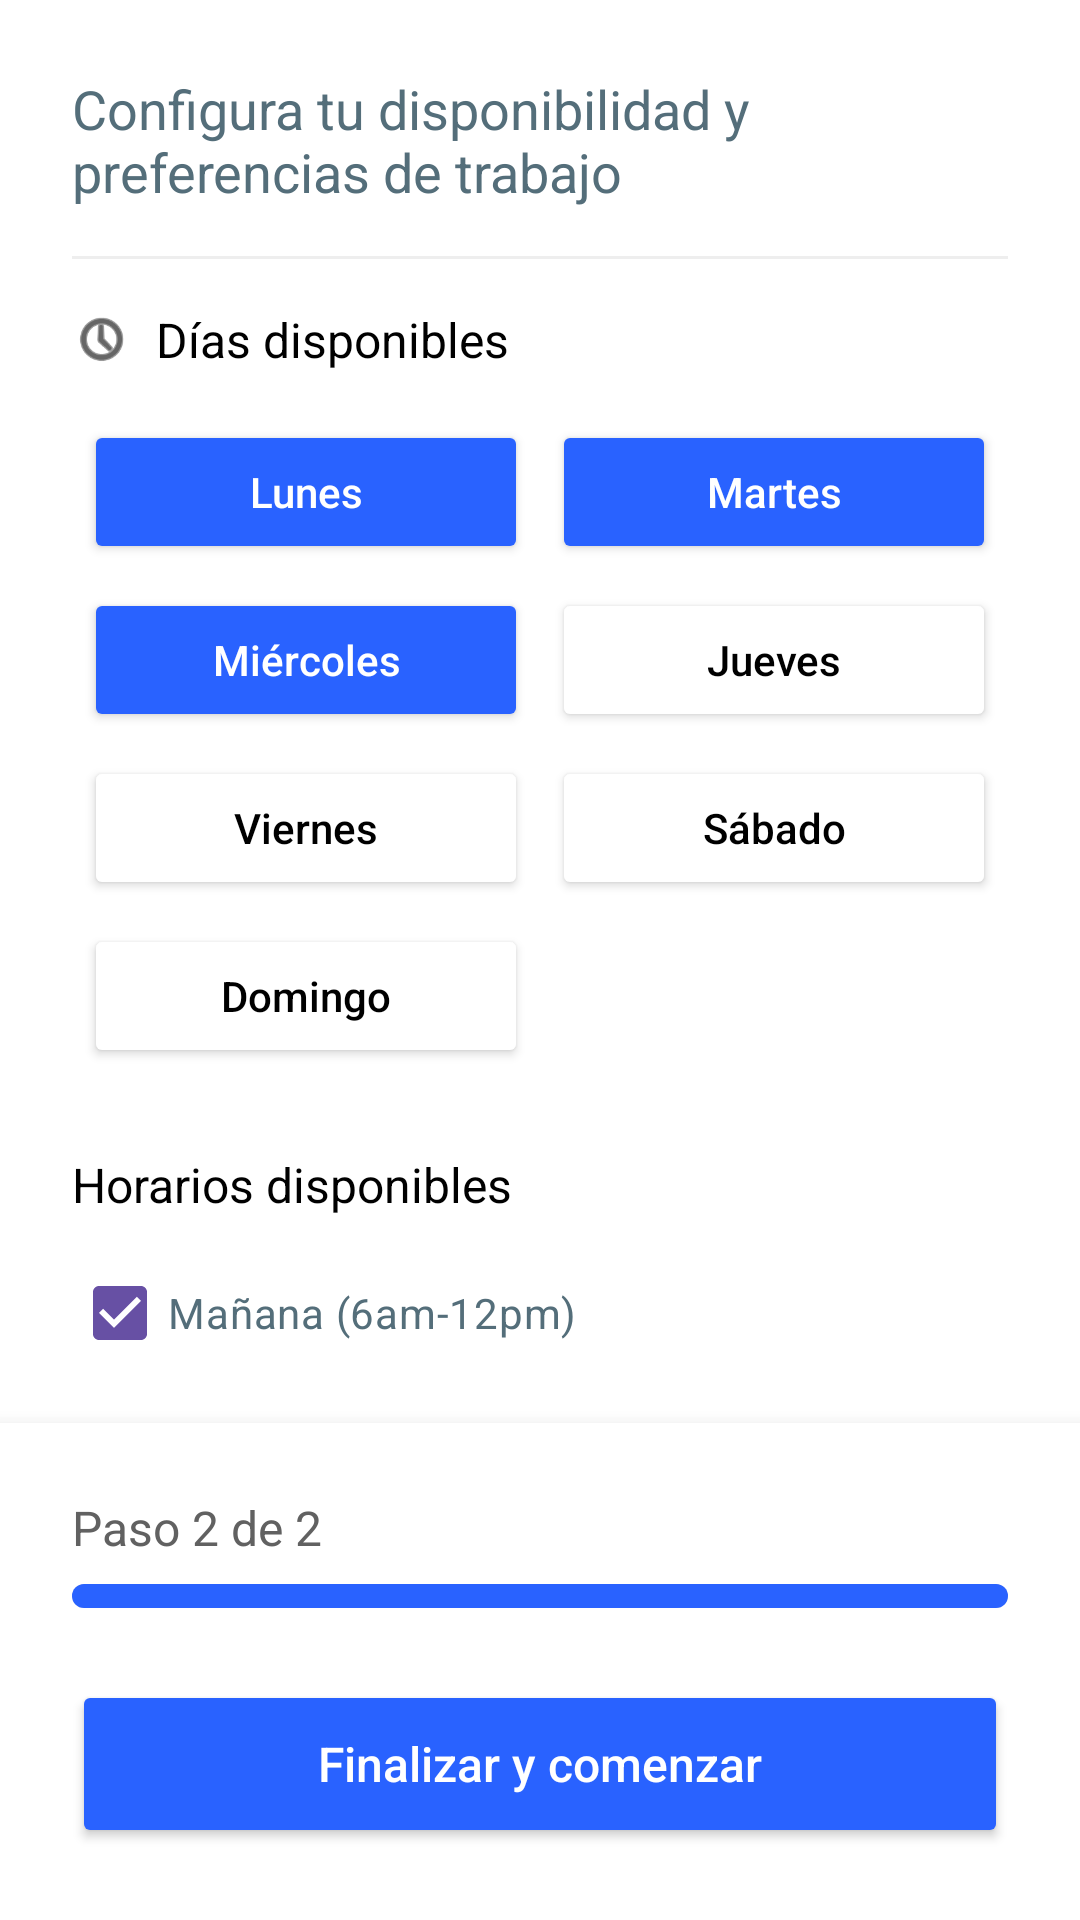

Icon bounding boxes for this 1080*1920 phone screenshot, format (left=x1, top=y1, right=x2, bottom=y2):
recent history: (left=80, top=318, right=123, bottom=361)
